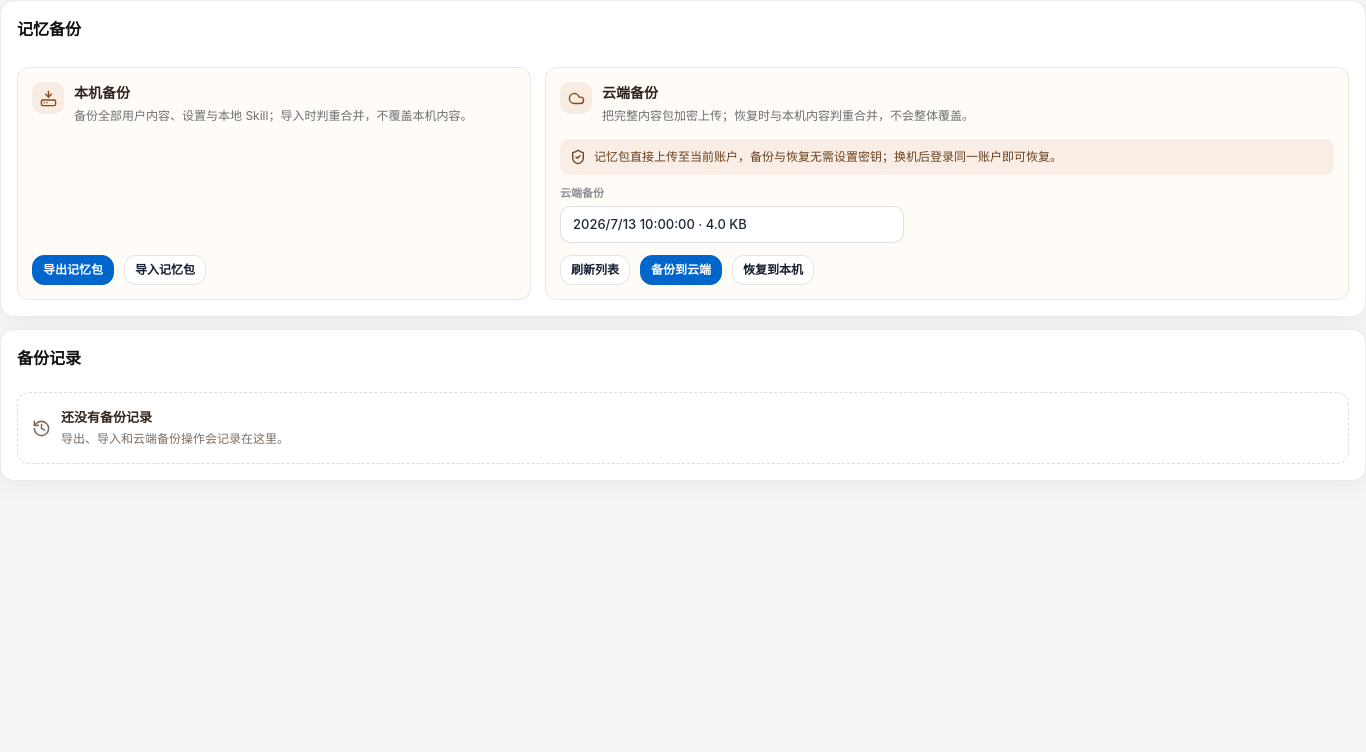
MemoryBackupSection › 云端备份和云端导入均记录路径与导入统计
This screenshot has width=1366, height=752.
Check: the dropdown named "云端备份" is shown, box top-left (560, 206), bottom-right (904, 243)
Click the button "备份到云端" at [681, 270], box top-left (640, 255), bottom-right (722, 285)
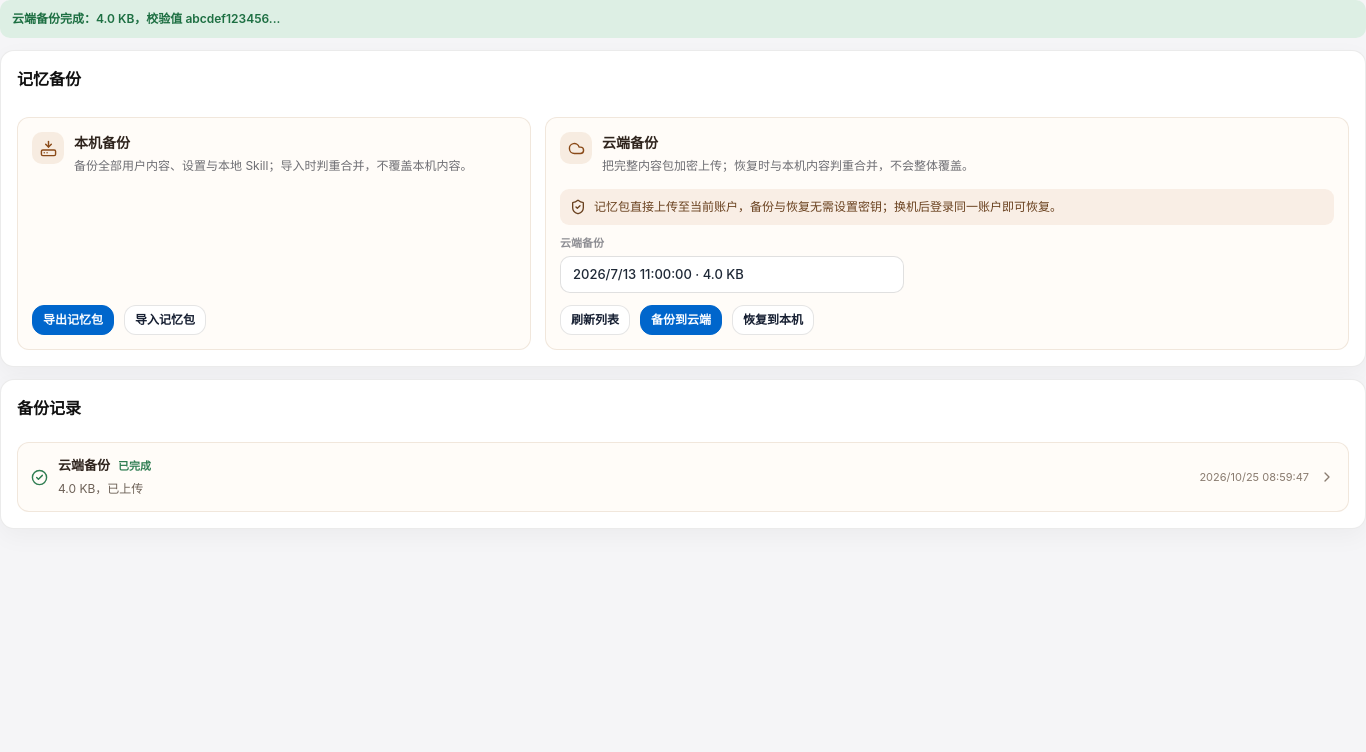
Click the heading "云端备份 已完成 4.0 KB，已上传 2026/10/25 08:59:47" at [84, 465], box top-left (31, 457), bottom-right (1335, 496)
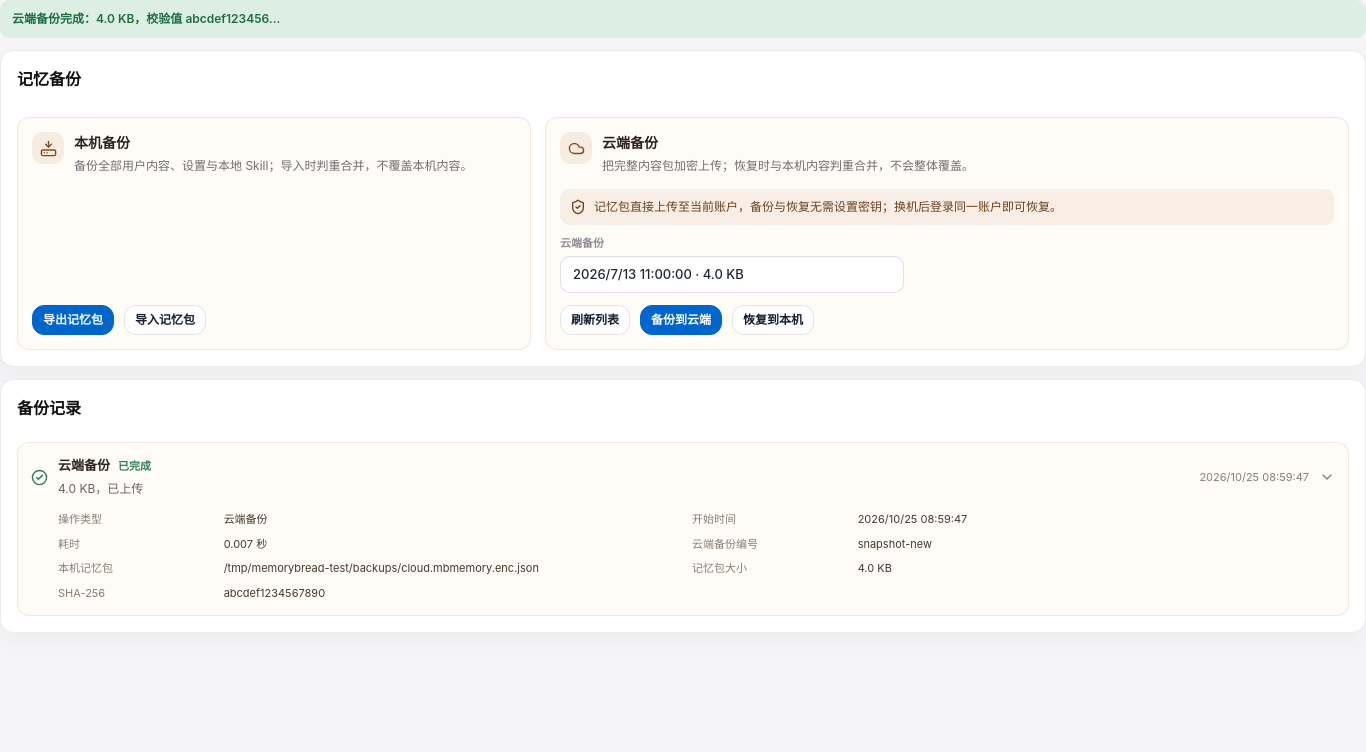
Check: the text "/tmp/memorybread-test/backups/cloud.mbmemory.enc.json" is shown, box top-left (224, 561), bottom-right (539, 575)
Click the button "恢复到本机" at [773, 320], box top-left (732, 305), bottom-right (814, 335)
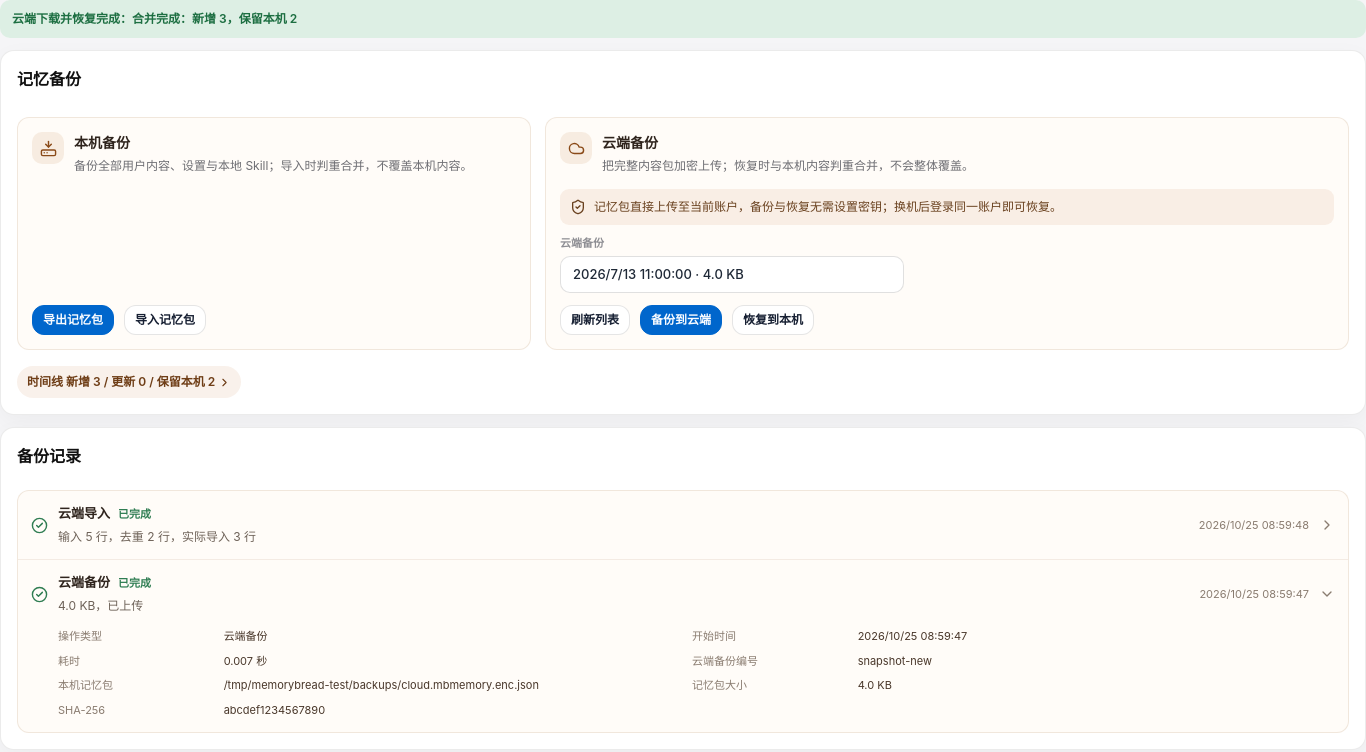
Click the heading "输入 5 行，去重 2 行，实际导入 3 行" at [84, 513], box top-left (31, 505), bottom-right (1335, 544)
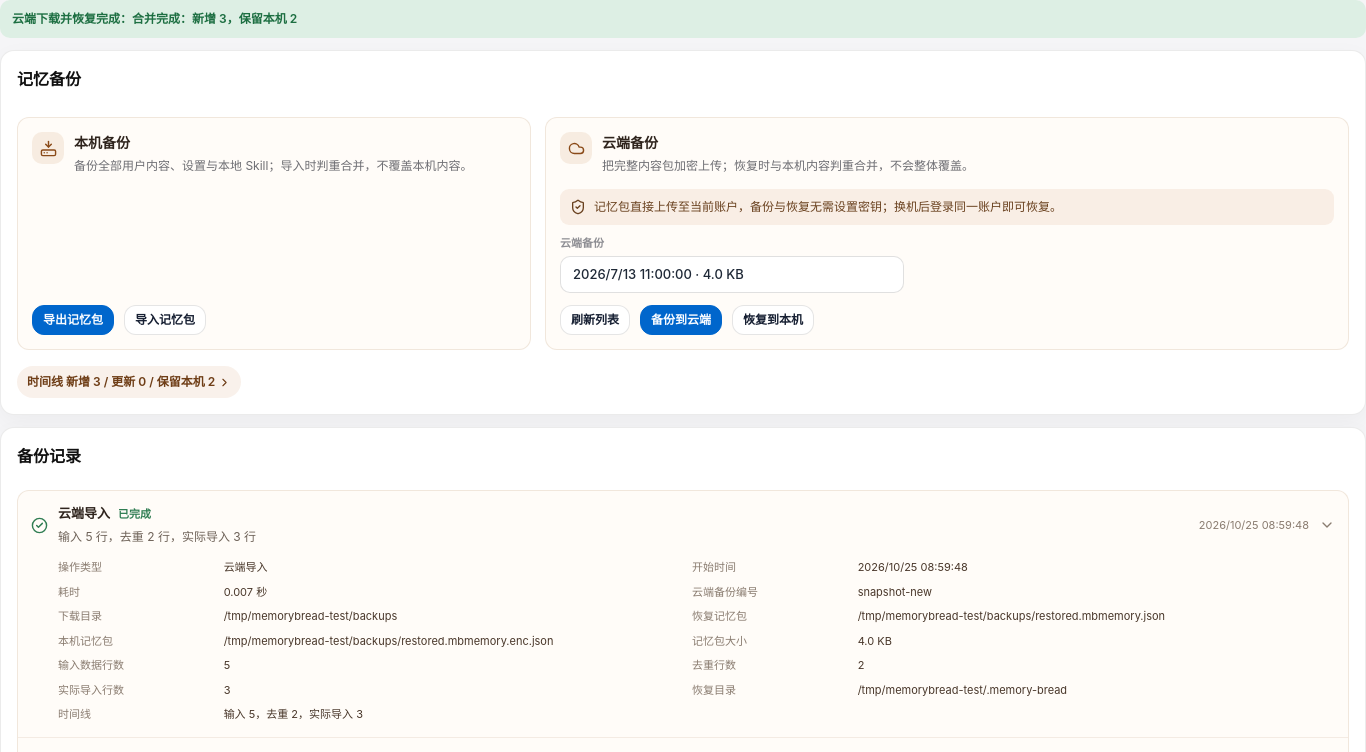
Check: the text "/tmp/memorybread-test/backups/restored.mbmemory.json" is shown, box top-left (858, 609), bottom-right (1165, 623)
Check: the text "/tmp/memorybread-test/.memory-bread" is shown, box top-left (858, 682), bottom-right (1067, 696)
